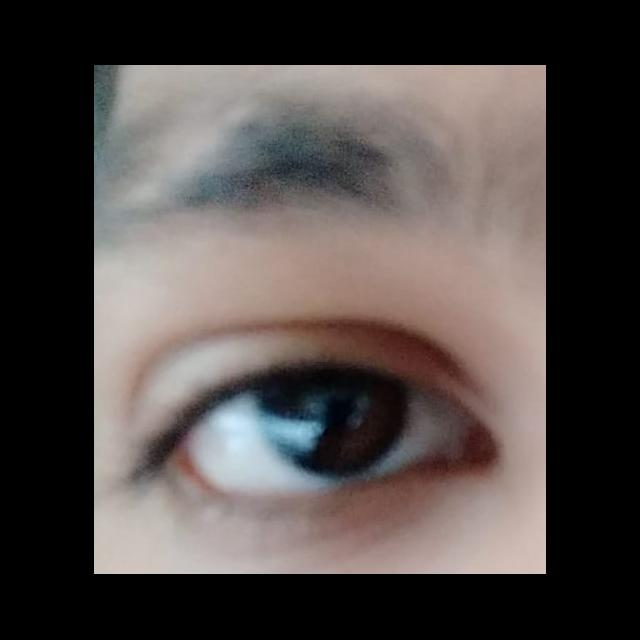eye: (185, 369, 463, 497)
iris: (253, 376, 410, 476)
